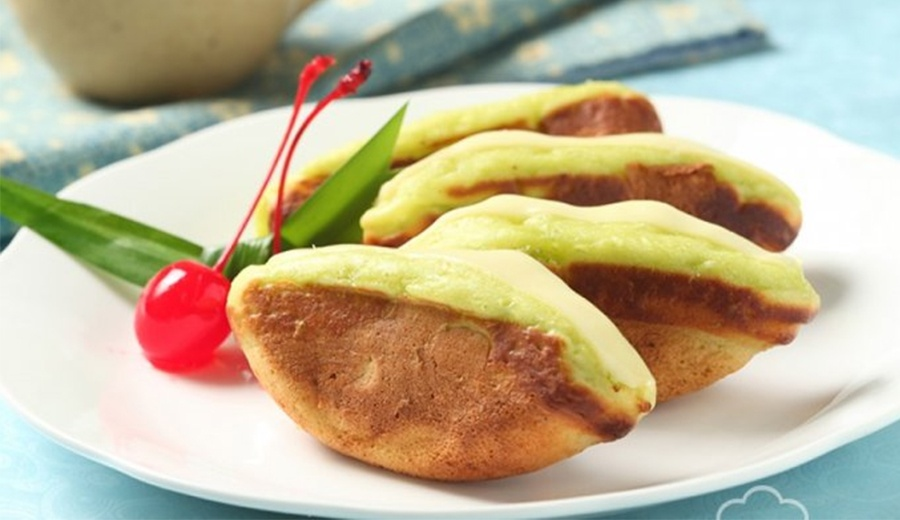pukis: (203, 234, 648, 477)
